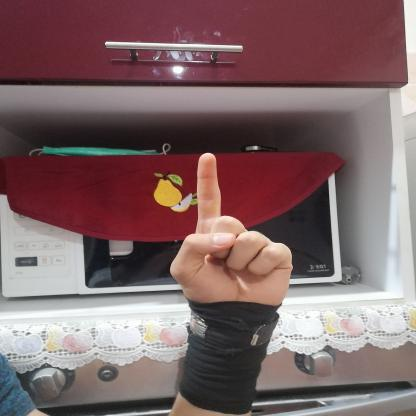BAA: (156, 143, 308, 324)
